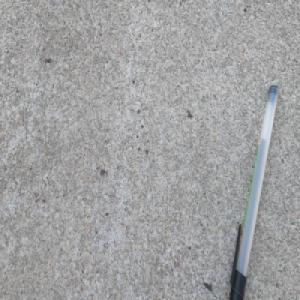Pen: (224, 77, 281, 300)
